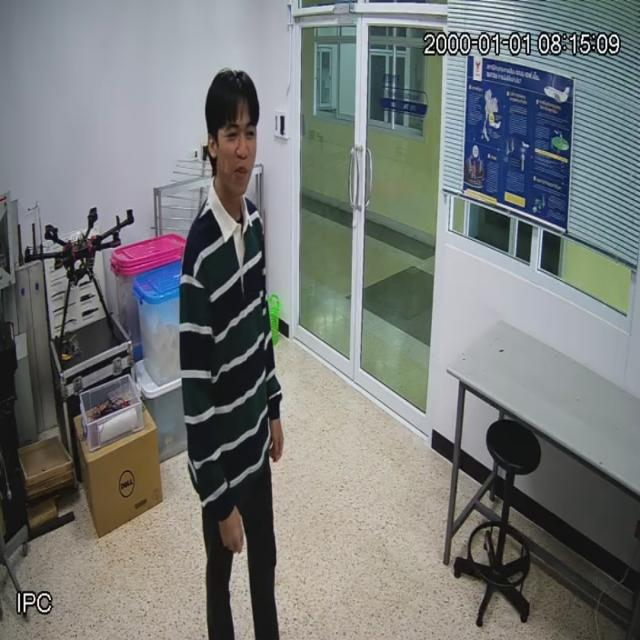normal: (180, 73, 285, 640)
